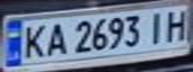2: (69, 17, 93, 54)
3: (121, 12, 145, 47)
6: (90, 16, 112, 52)
9: (106, 15, 127, 49)
A: (42, 20, 69, 57)
H: (160, 6, 193, 43)
I: (142, 8, 172, 44)
K: (18, 21, 51, 60)
